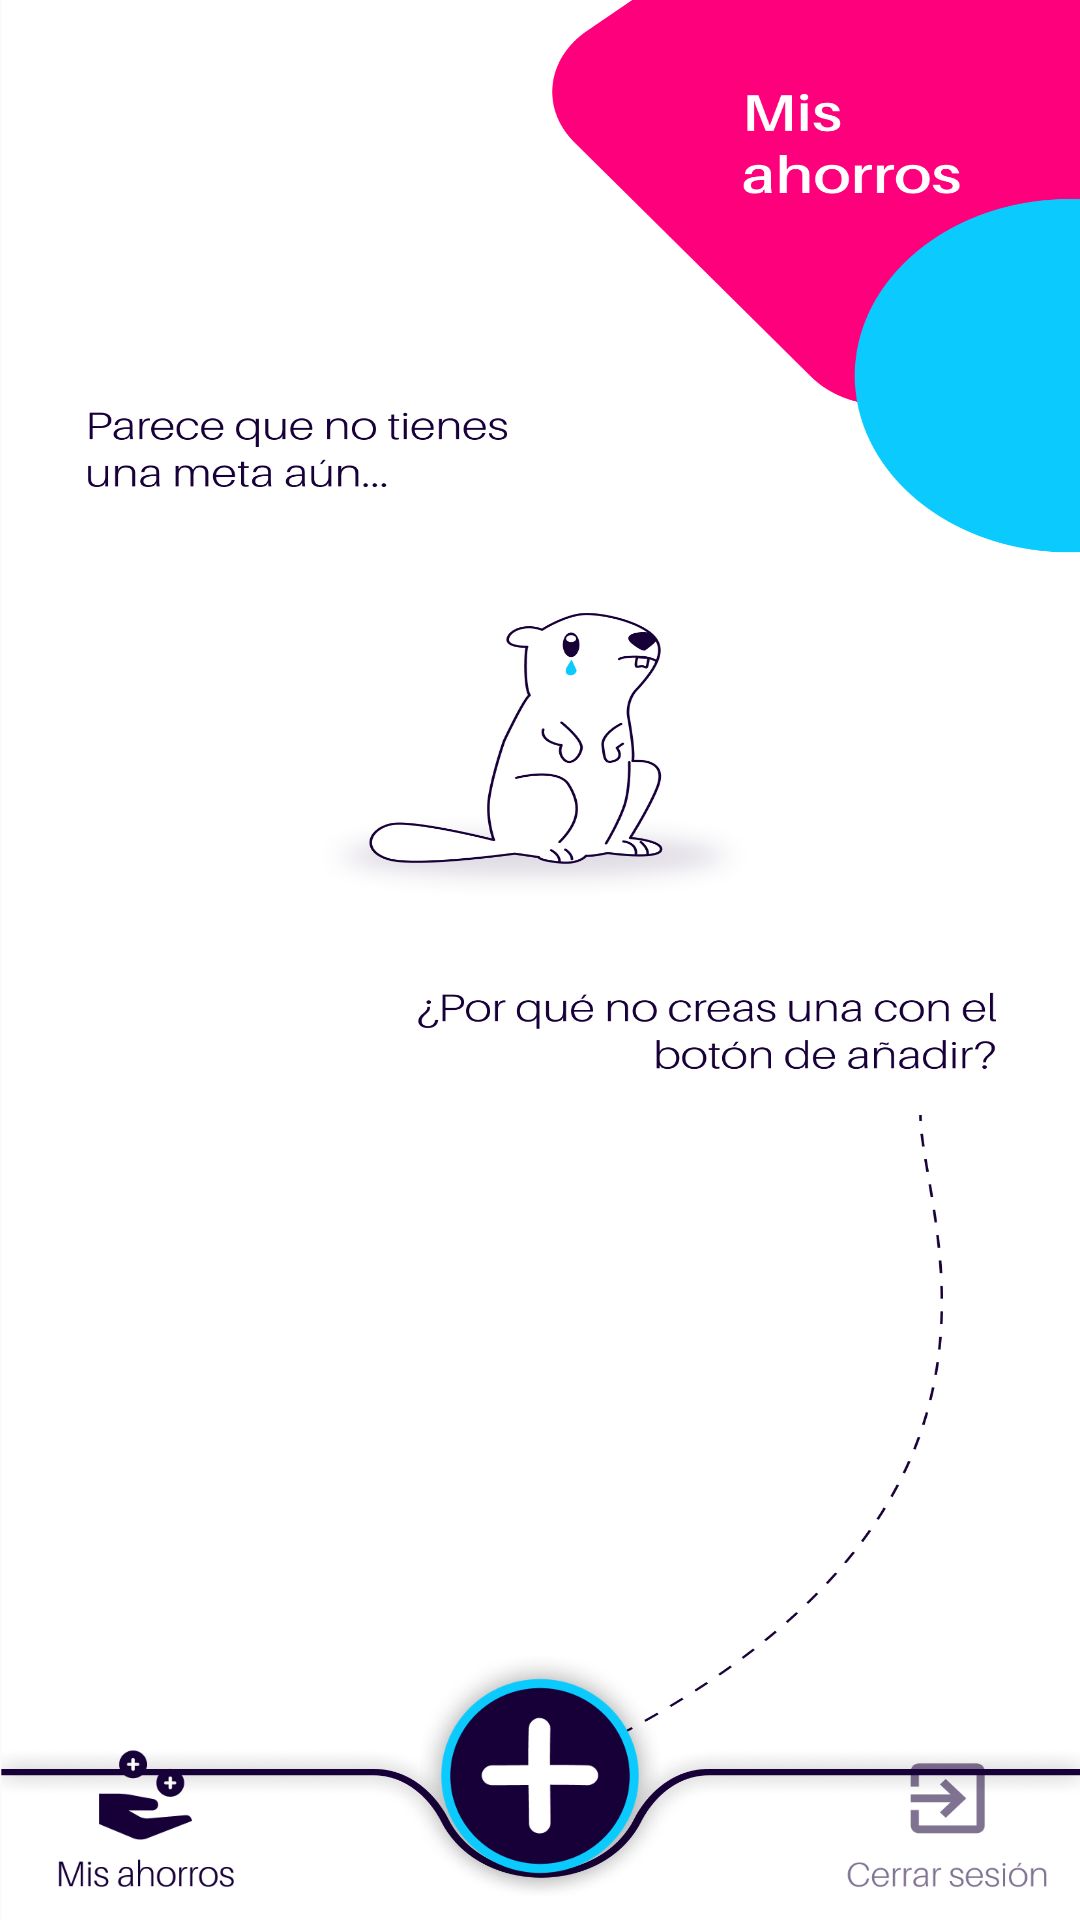

Where icons sit on this 1080 x 1920 app screen, as Rect(x1, y1, x2, y2):
btnadd: Rect(420, 1671, 660, 1887)
